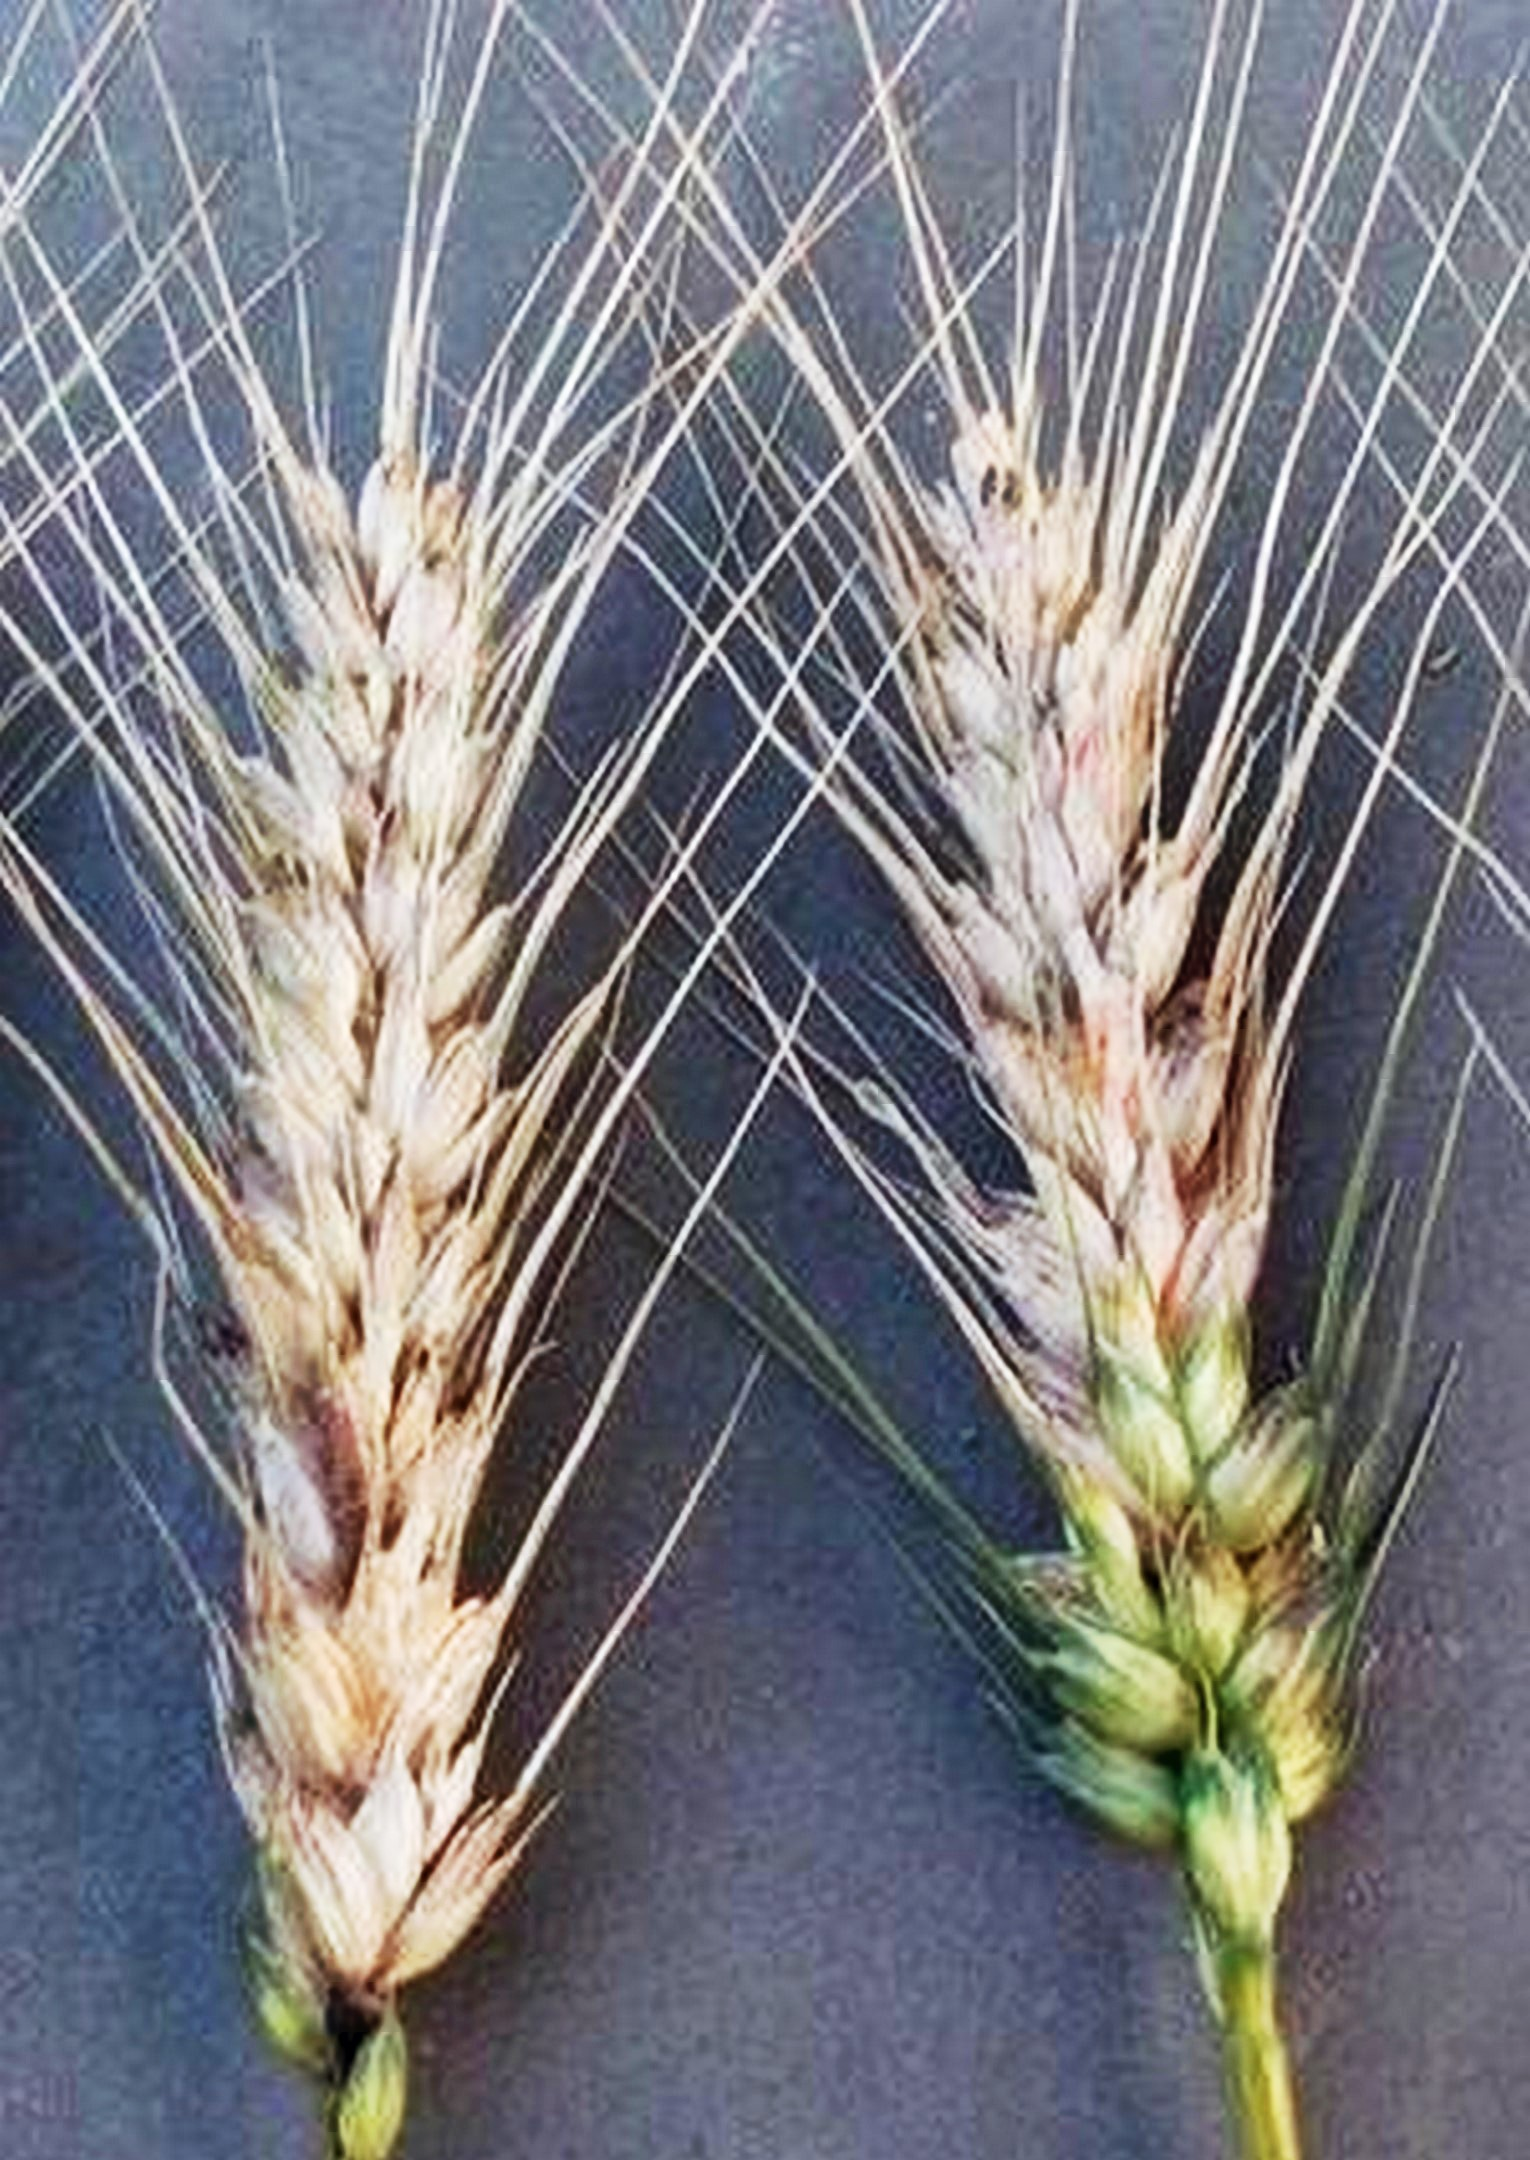Wheat scab: (835, 362, 1434, 1917), (88, 397, 589, 2036)
